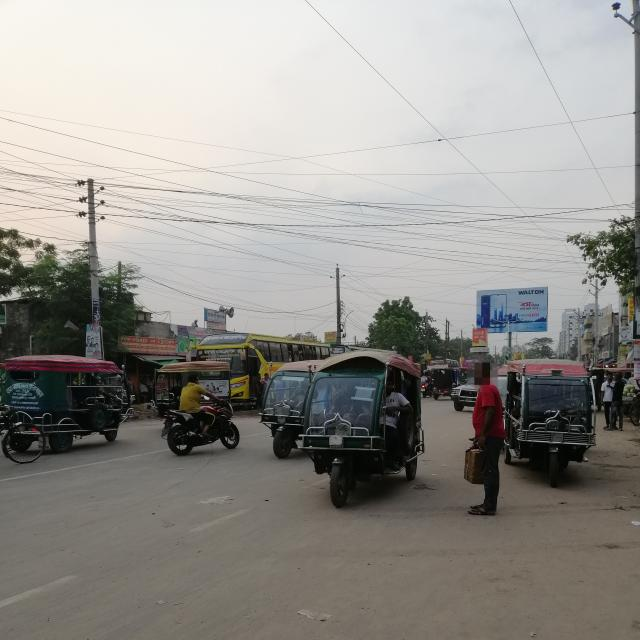Motorbike: (148, 394, 259, 459)
